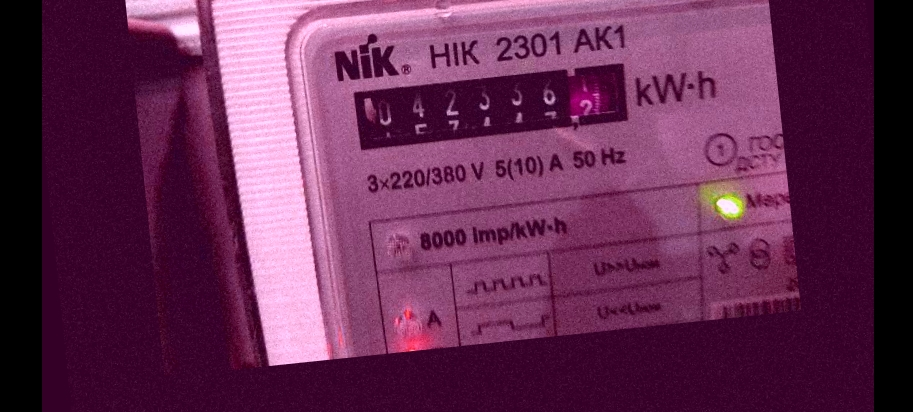0: (375, 97, 394, 126)
1: (577, 70, 591, 93)
2: (442, 86, 461, 116), (577, 96, 595, 115)
3: (506, 76, 525, 108), (474, 82, 492, 111)
4: (409, 88, 428, 119)
6: (540, 75, 560, 106)
screen: (341, 48, 644, 159)
